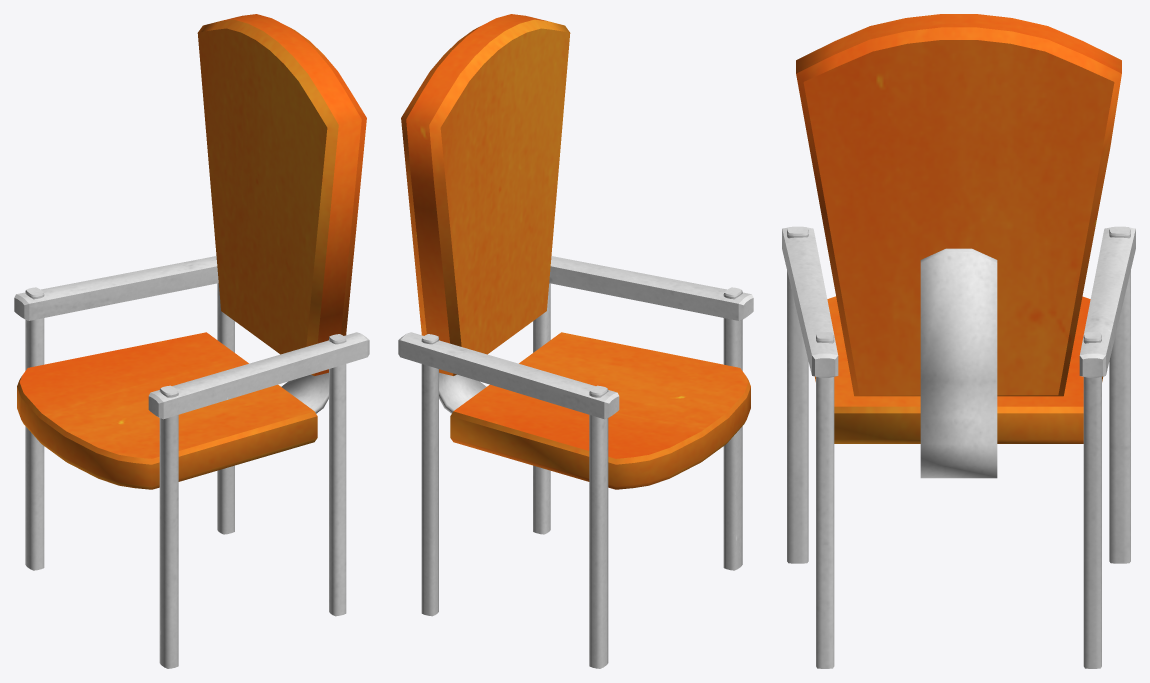
File: small chair.fbx
The picture shows the model from 3 angles, left to right: view 1: azimuth 30°, elevation 25°; view 2: azimuth 150°, elevation 25°; view 3: azimuth 270°, elevation 25°; orthographic projection. The views are drawn at different scales.
Parts seen in each view (by area): view 1: small_chair; view 2: small_chair; view 3: small_chair.
Part boxes in pixels (bbox=[...]): small_chair: bbox=[14, 14, 369, 668]; small_chair: bbox=[398, 14, 753, 668]; small_chair: bbox=[782, 14, 1135, 668].
Bounding box in the file's own units: 83.43 × 161 × 79.85.
